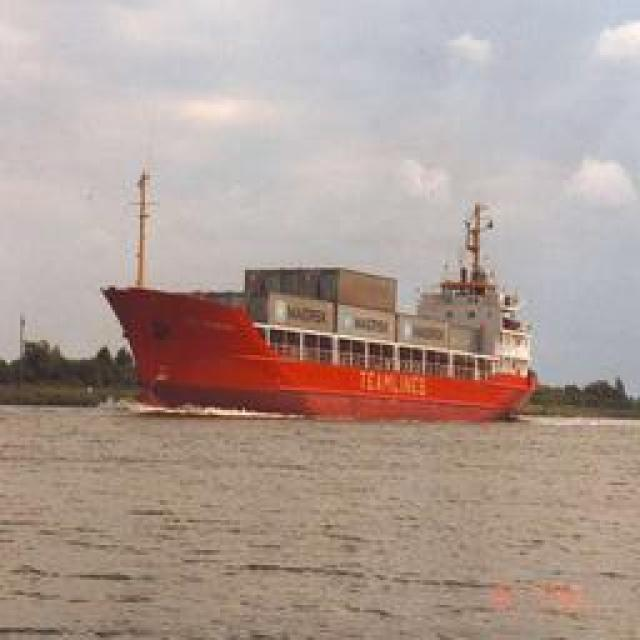CIV_Ship: (119, 202, 534, 428)
